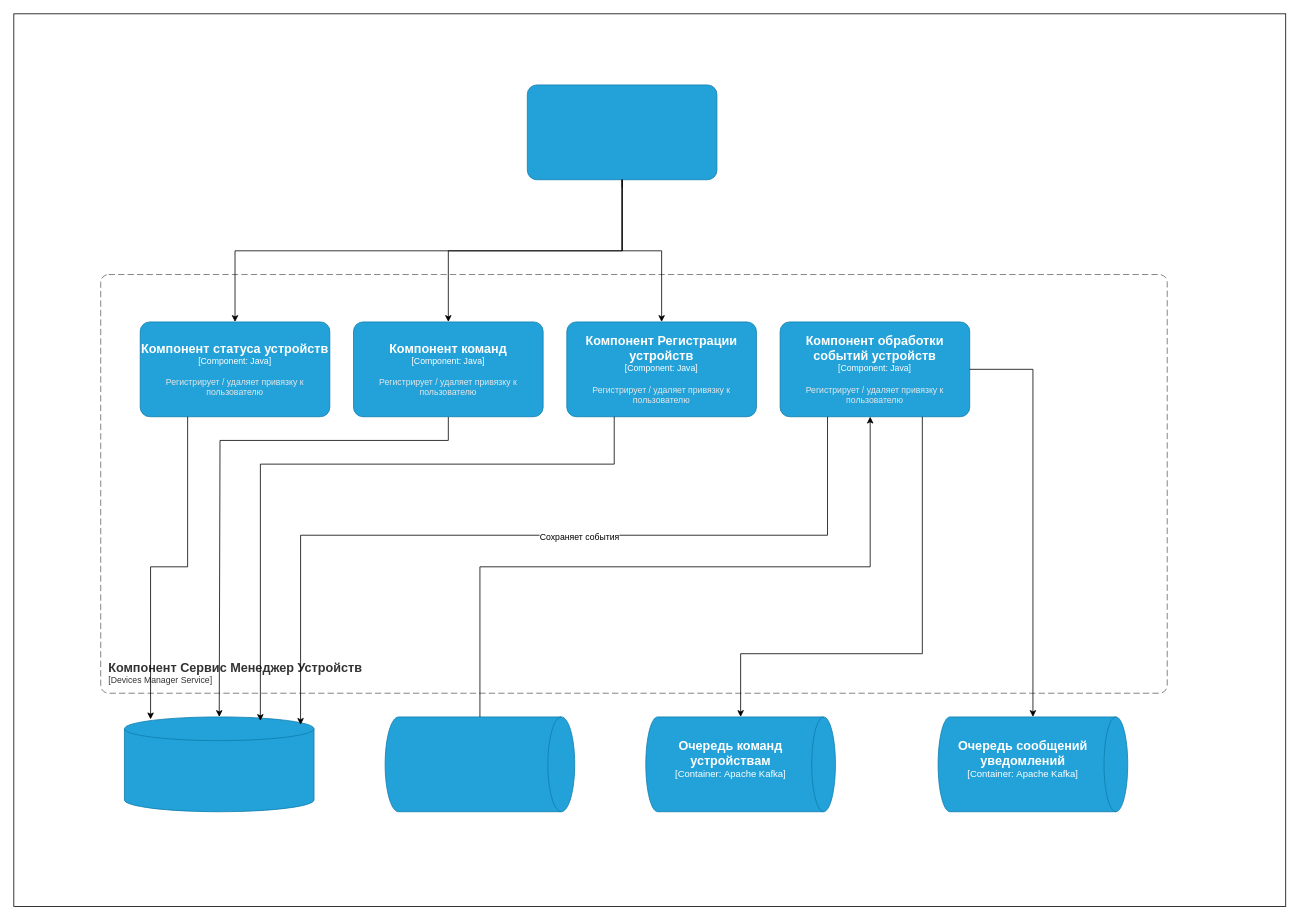
This 1300x920 diagram has some shape labels left out. Each missing label, with the centre of its shape:
Api Gateway [Container: Kong] Аутентификация, авторизация, маршрутизация: the point at 622,132
БД устройств [Container: Cassandra]: the point at 219,764
Лог событий устройств [Container: Apache Kafka]: the point at 479,764
